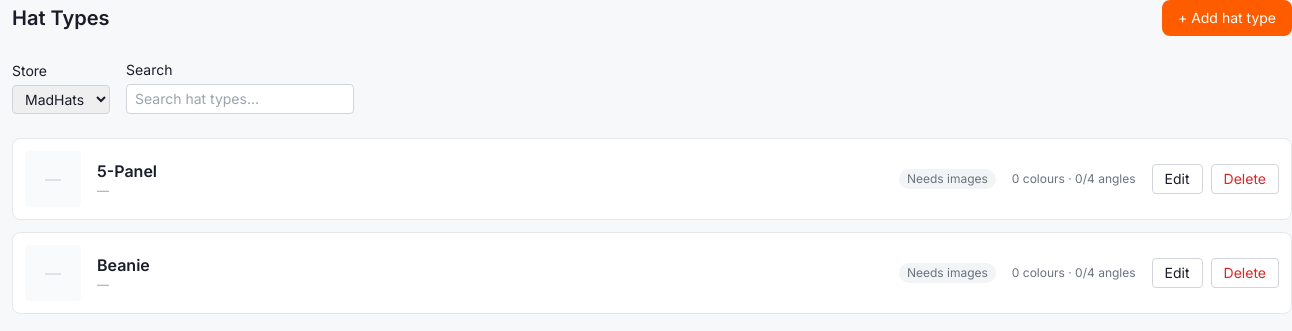
Scenario: HatTypesView (list) › filters the list by search text
This screenshot has width=1292, height=331.
Check: the text "Beanie" is shown, box x1=97 y1=255 x2=150 y2=275
Type "bean" into the field with placeholder "Search hat types…".
click(240, 99); type("bean")  # box x1=126 y1=84 x2=354 y2=114
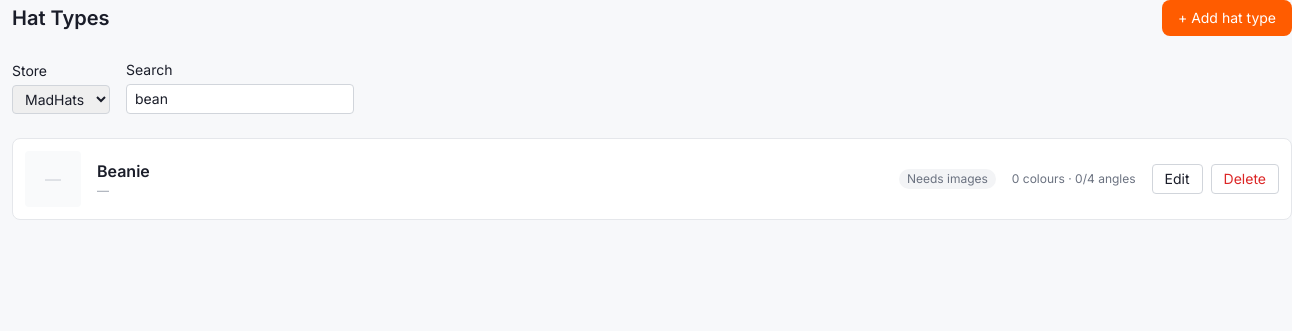
Check: the text "Beanie" is shown, box x1=97 y1=161 x2=150 y2=181
Check: the text "5-Panel" is gone
